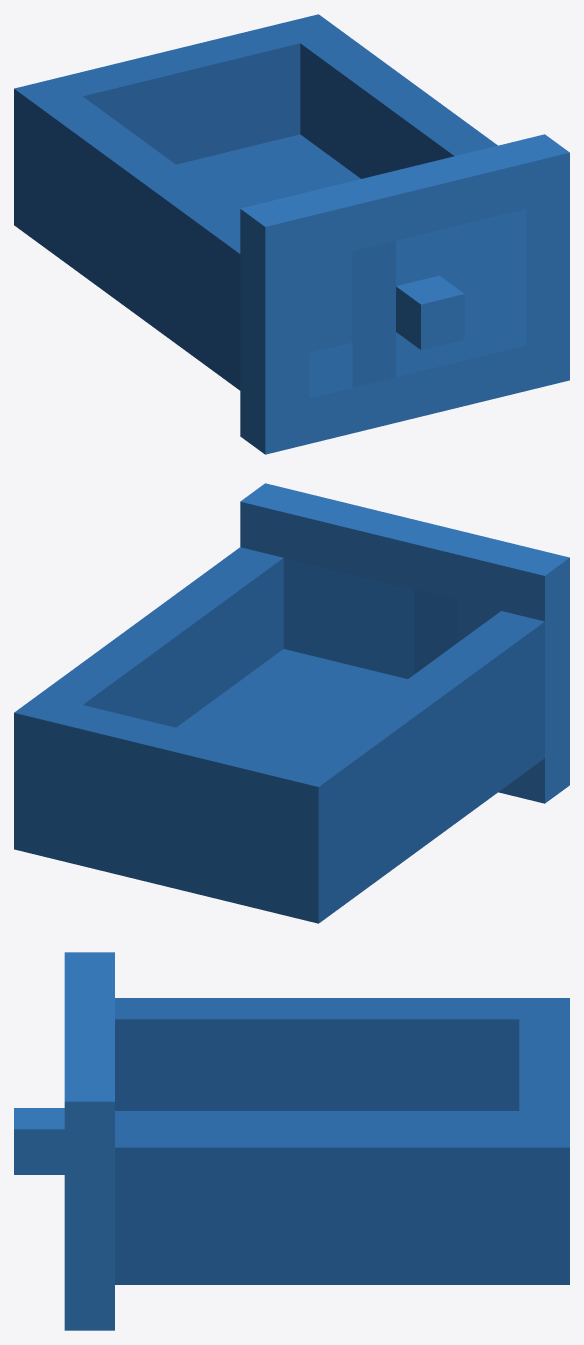
File: Kitchen_cabinets-7.obj
The picture shows the model from 3 angles, top to bottom: view 1: azimuth 30°, elevation 25°; view 2: azimuth 150°, elevation 25°; view 3: azimuth 270°, elevation 25°; orthographic projection.
Bounding box in the file's own units: 0.7 × 0.5 × 1.1.
Materials: 1 (1 with a texture image).
